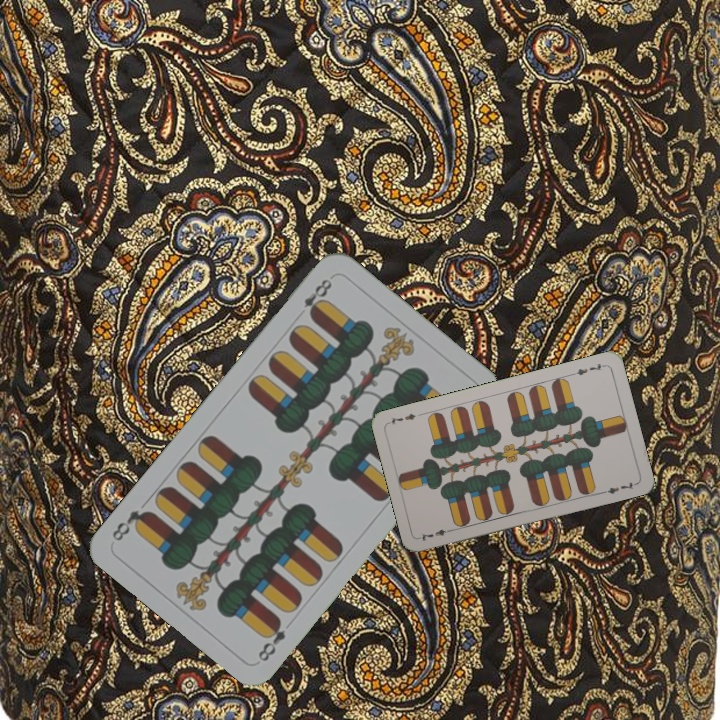E7: (568, 359, 608, 378), (416, 525, 456, 543)
E8: (253, 614, 289, 665), (299, 274, 335, 321)
